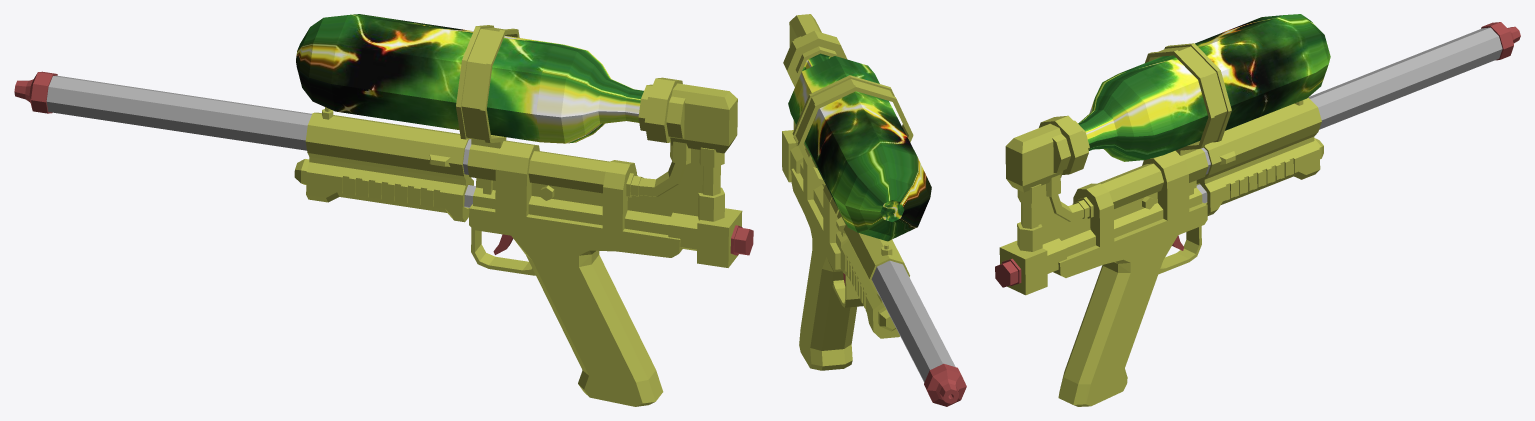
File: AcidLauncher.fbx
The picture shows the model from 3 angles, left to right: view 1: azimuth 30°, elevation 25°; view 2: azimuth 150°, elevation 25°; view 3: azimuth 270°, elevation 25°; orthographic projection. The views are drawn at different scales.
Parts seen in each view (by area): view 1: Cylinder.014; view 2: Cylinder.014; view 3: Cylinder.014.
Part boxes in pixels (x1,y1,x2,y2): Cylinder.014: (14,14,753,406); Cylinder.014: (782,14,966,406); Cylinder.014: (995,14,1520,406).
Bounding box in the file's own units: 477 × 347 × 528.
